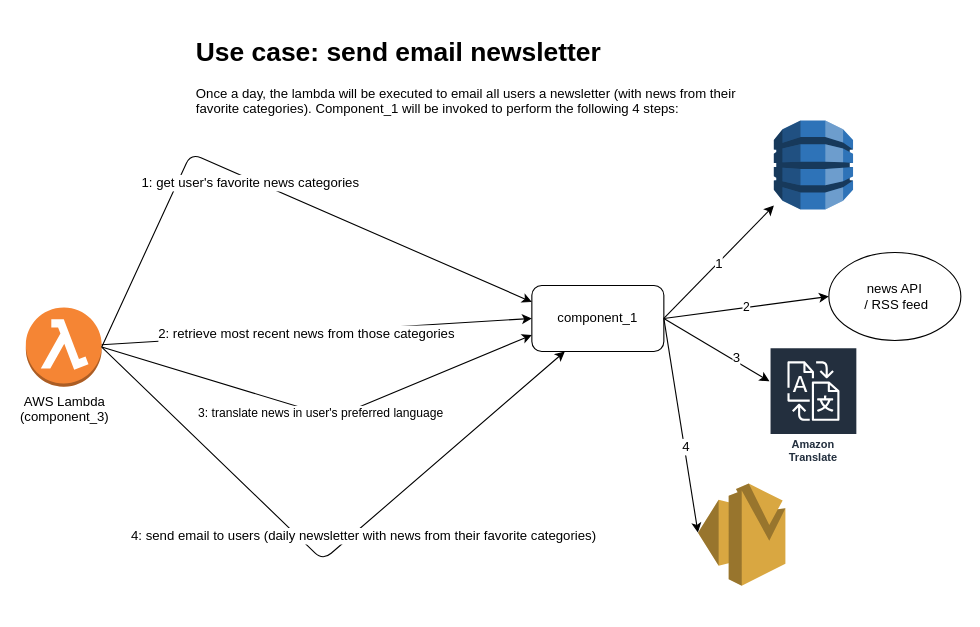
This 980x627 diagram has some shape labels left out. Each missing label, with the centre of its shape:
"Dynamo DB" goes at (x=813, y=164).
"SES (Simple Email Service)" goes at (x=741, y=534).
